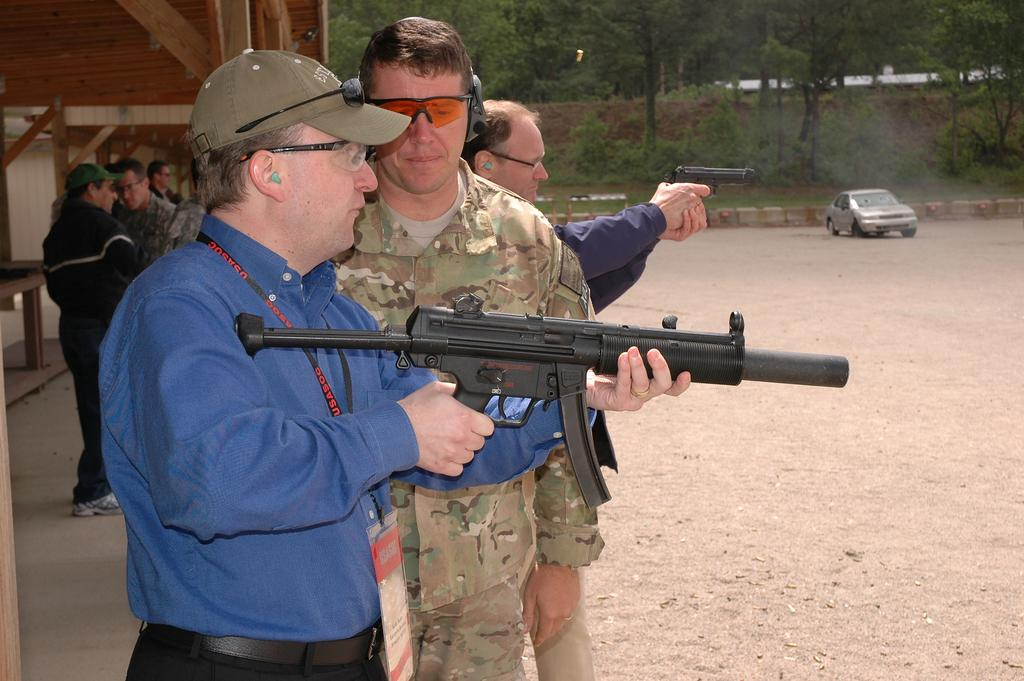Rifle: (239, 297, 852, 507)
